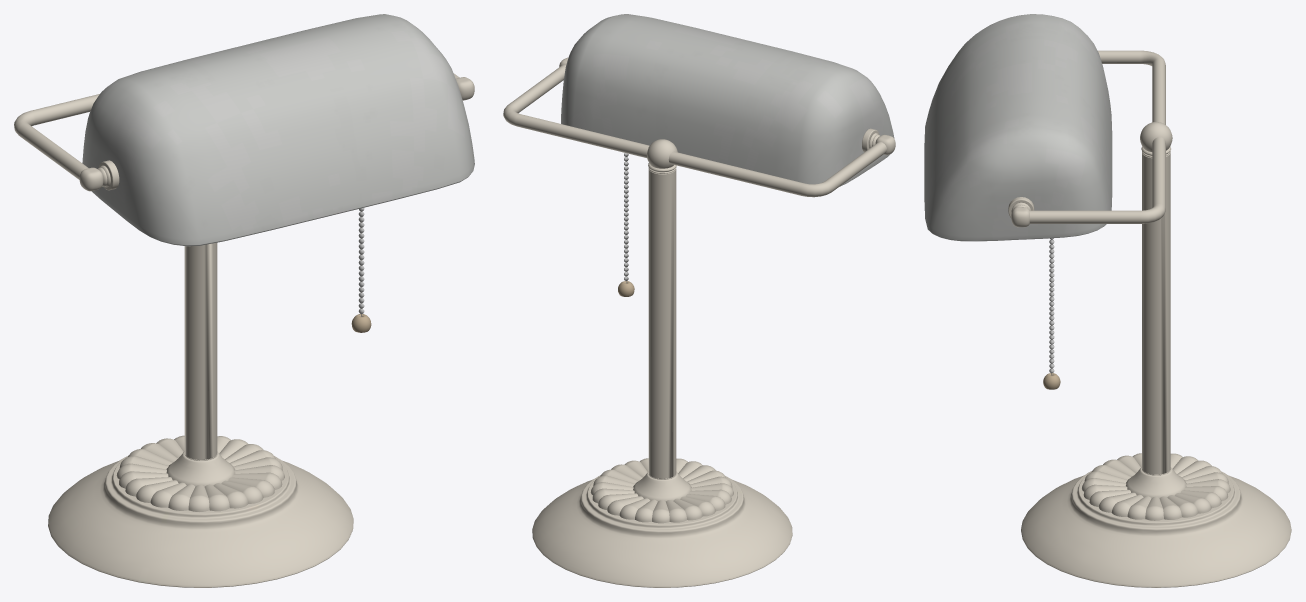
Rendered from B07ML7QBHQ.glb.
3 views of the same model, side by side, from view 1: azimuth 30°, elevation 25°; view 2: azimuth 150°, elevation 25°; view 3: azimuth 270°, elevation 25° (orthographic). The views are drawn at different scales.
Parts seen in each view (by area): view 1: RootNode; view 2: RootNode; view 3: RootNode.
Part boxes in pixels (bbox=[...]): RootNode: bbox=[14, 14, 474, 587]; RootNode: bbox=[503, 14, 895, 587]; RootNode: bbox=[924, 14, 1291, 587].
Bounding box in the file's own units: 0.2644 × 0.3387 × 0.2432.
1 material, 1 textured.
